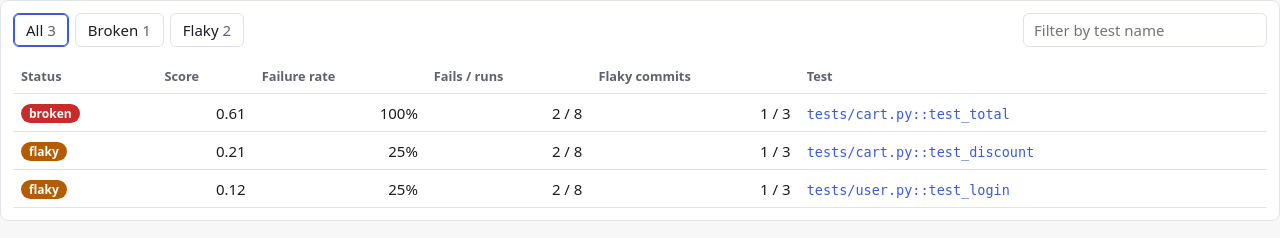
Test: VerdictTable › says so when the filter matches nothing
Type "nothing like this" into the search field labelled "Filter by test name" at (1145, 30), box [1023, 13, 1267, 47]
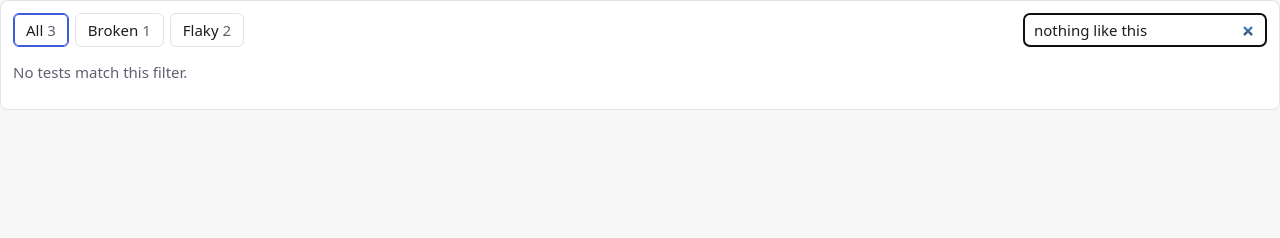
Expected: the text "No tests match this filter." is shown, [13, 62, 187, 82]
